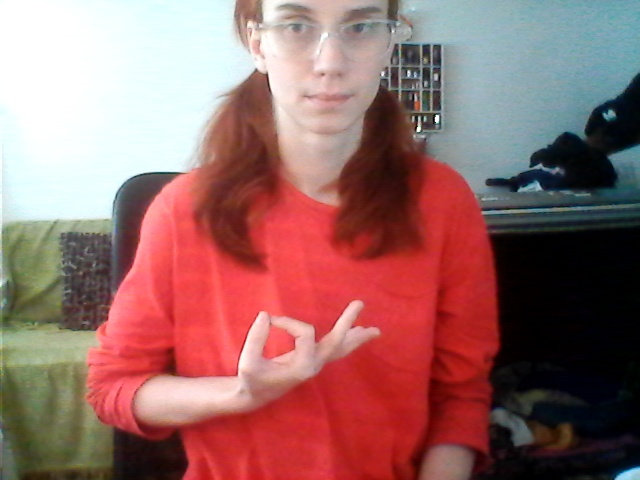co: (231, 298, 384, 404)
